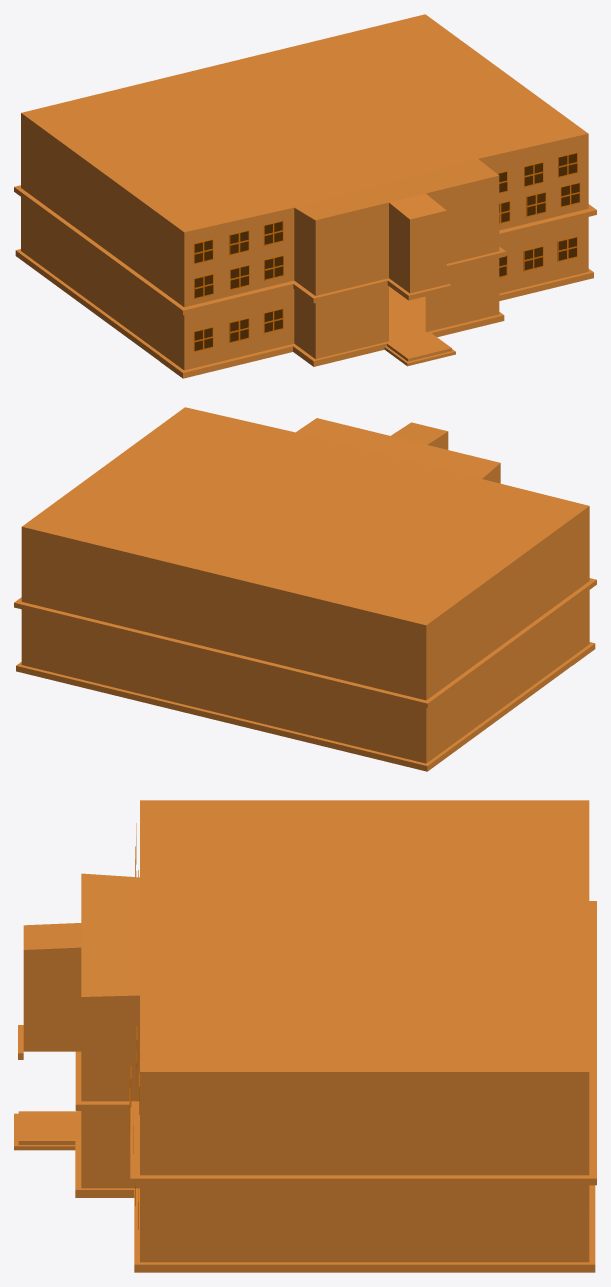
File: sekolah.glb
3 renders of one model, top to bottom at view 1: azimuth 30°, elevation 25°; view 2: azimuth 150°, elevation 25°; view 3: azimuth 270°, elevation 25°, orthographic. The views are drawn at different scales.
Parts seen in each view (by area): view 1: Cube; view 2: Cube; view 3: Cube.
Boxes of the visible parts, <box> form: Cube: <box>14,14,596,378</box>; Cube: <box>14,407,596,771</box>; Cube: <box>14,800,596,1272</box>.
Bounding box in the file's own units: 22.47 × 7.56 × 19.93.
